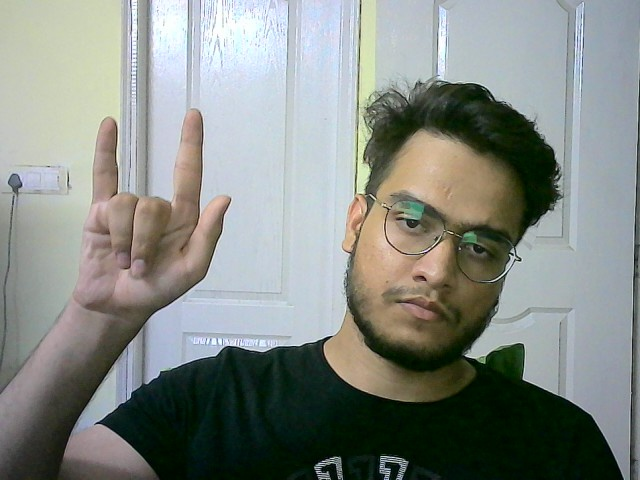I Love You: (77, 104, 235, 325)
